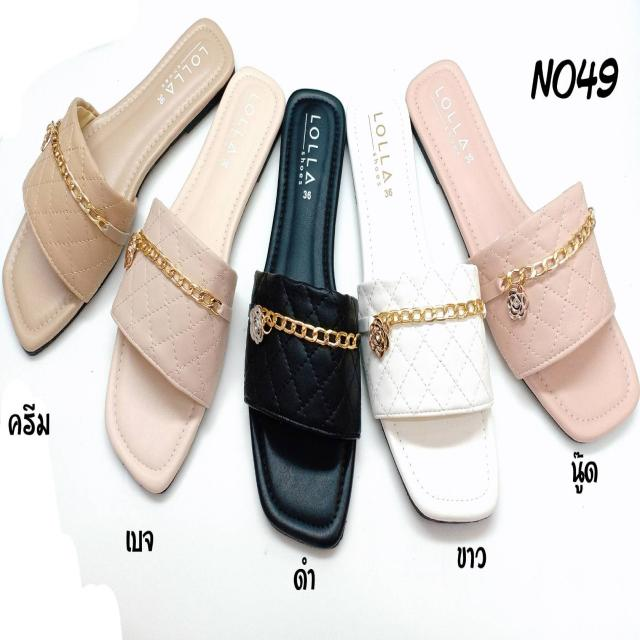bej: (105, 58, 286, 489)
black: (249, 90, 360, 546)
cream: (2, 15, 236, 350)
nood: (409, 58, 635, 446)
white: (348, 83, 496, 524)
